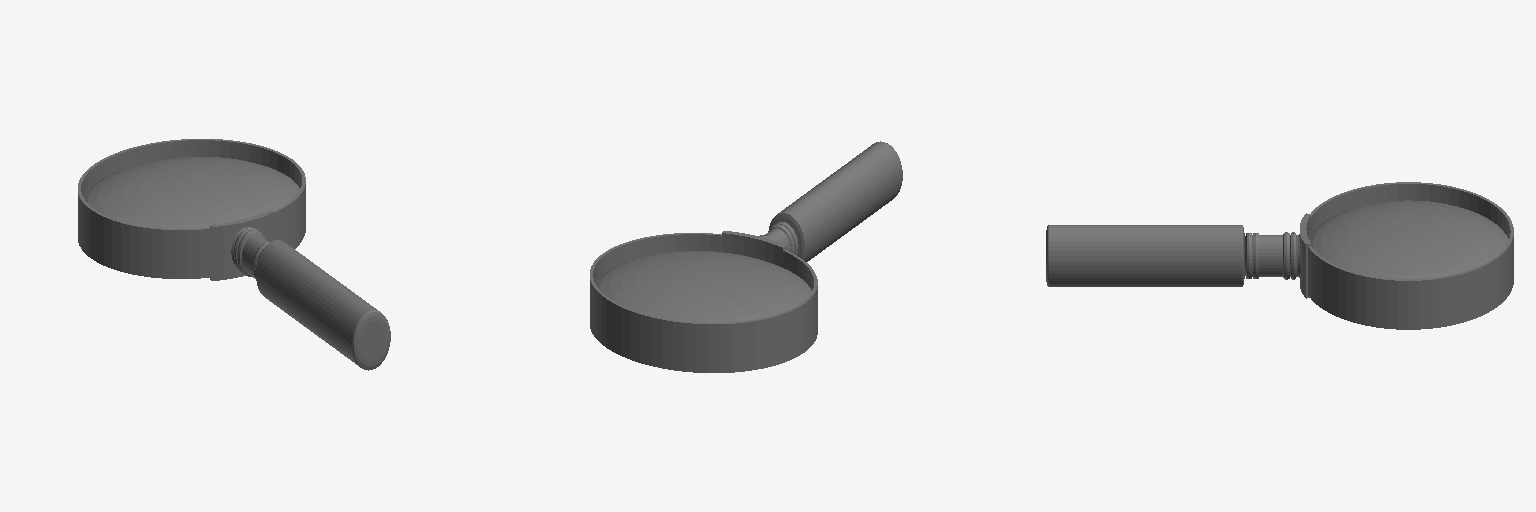
The model's file is magnifier.obj.
The picture shows the model from 3 angles: view 1: azimuth 30°, elevation 25°; view 2: azimuth 150°, elevation 25°; view 3: azimuth 270°, elevation 25°; orthographic projection.
Visible parts, largest first — view 1: MagnifyingGlass; view 2: MagnifyingGlass; view 3: MagnifyingGlass.
Part boxes in pixels (x1,y1,x2,y2): MagnifyingGlass: (78,139,390,370); MagnifyingGlass: (590,141,902,372); MagnifyingGlass: (1046,182,1513,329).
Bounding box in the file's own units: 2.5 × 0.7 × 5.